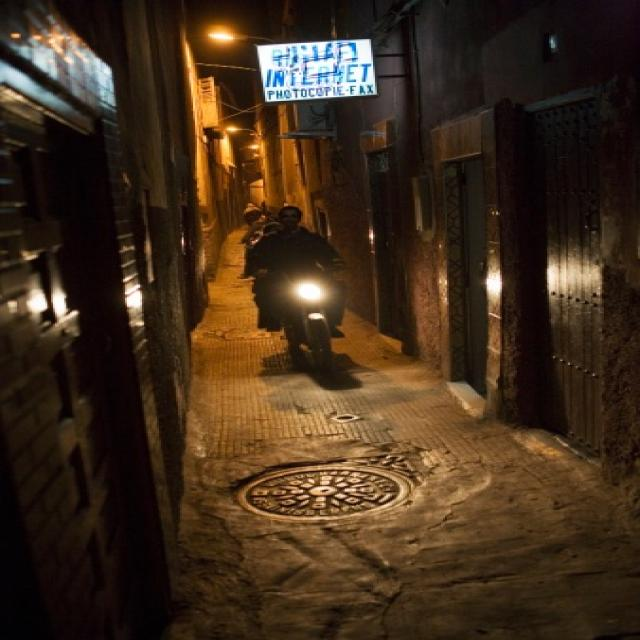Motorbike: (205, 213, 396, 391)
